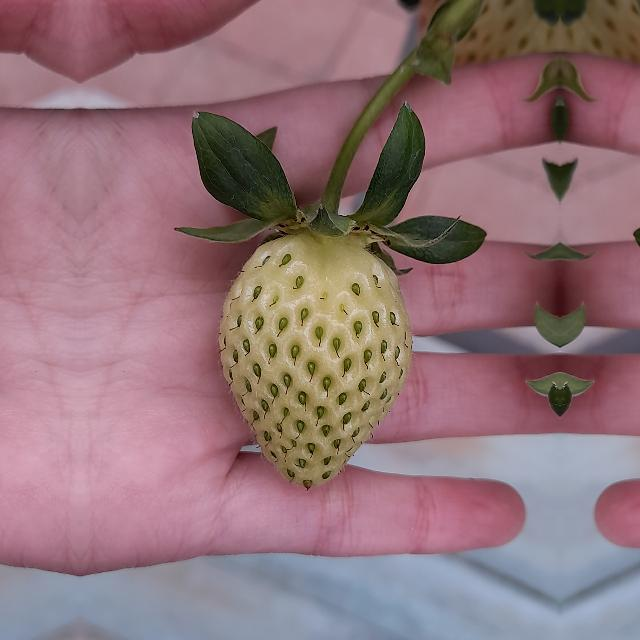Health_25: (218, 234, 412, 488)
